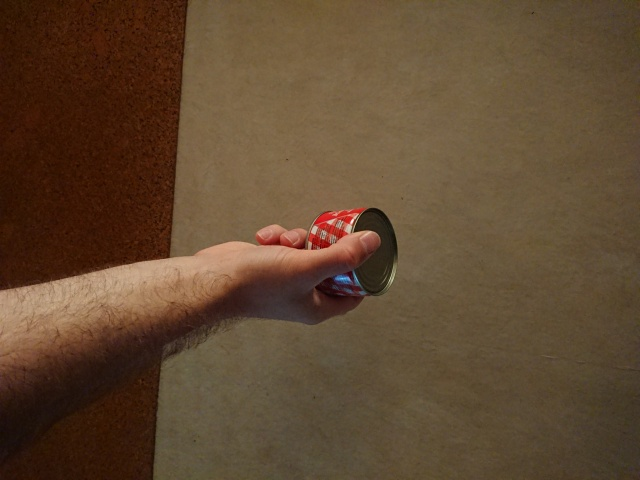Podravka Luncheon Meat 150g: (301, 205, 401, 301)
